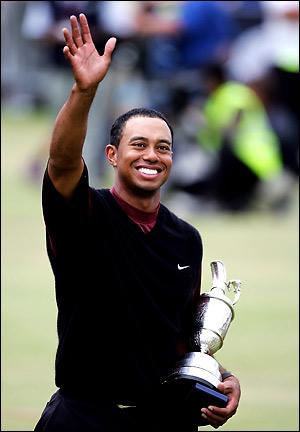person: (43, 14, 241, 432)
